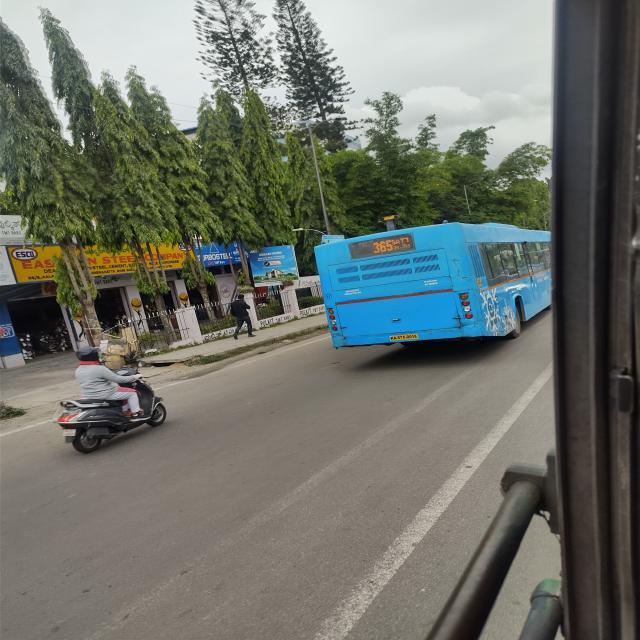bus: (303, 225, 562, 356)
display: (353, 231, 415, 259)
dnumber: (370, 240, 395, 254)
